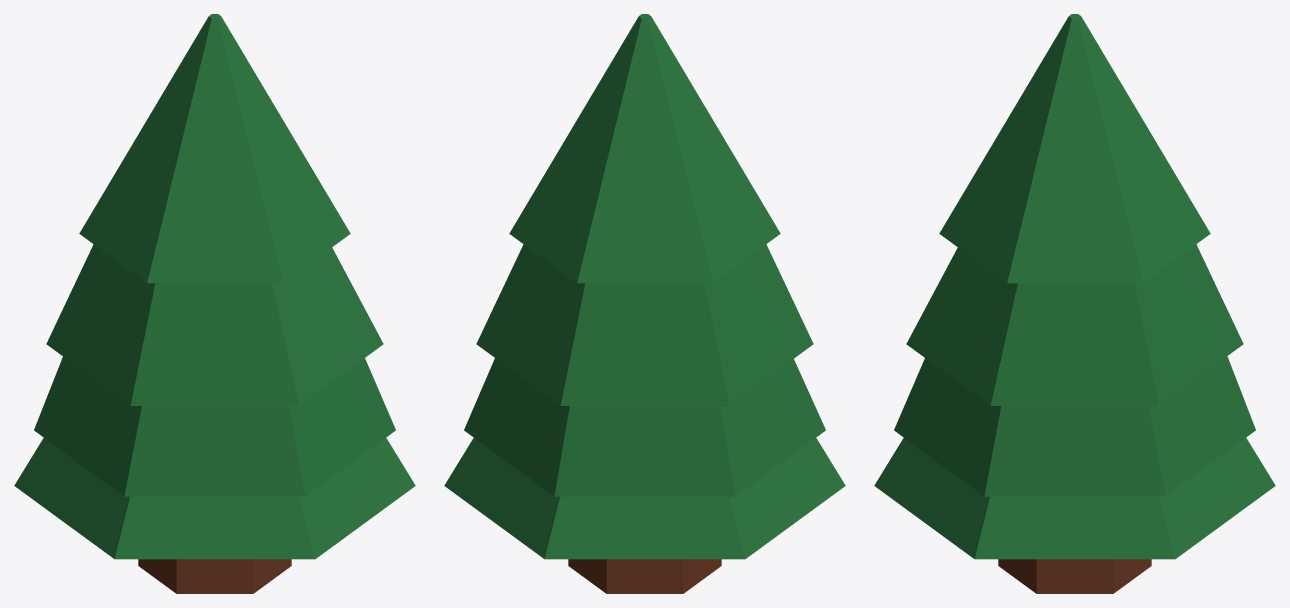
The model's file is Tree.fbx.
The picture shows the model from 3 angles, left to right: view 1: azimuth 30°, elevation 25°; view 2: azimuth 150°, elevation 25°; view 3: azimuth 270°, elevation 25°; orthographic projection.
Parts seen in each view (by area): view 1: Cylinder; view 2: Cylinder; view 3: Cylinder.
Part boxes in pixels (x1,y1,x2,y2): Cylinder: (14,14,415,593); Cylinder: (444,14,845,593); Cylinder: (874,14,1275,593).
Size of the model in its own units: 437 by 762 by 505.
